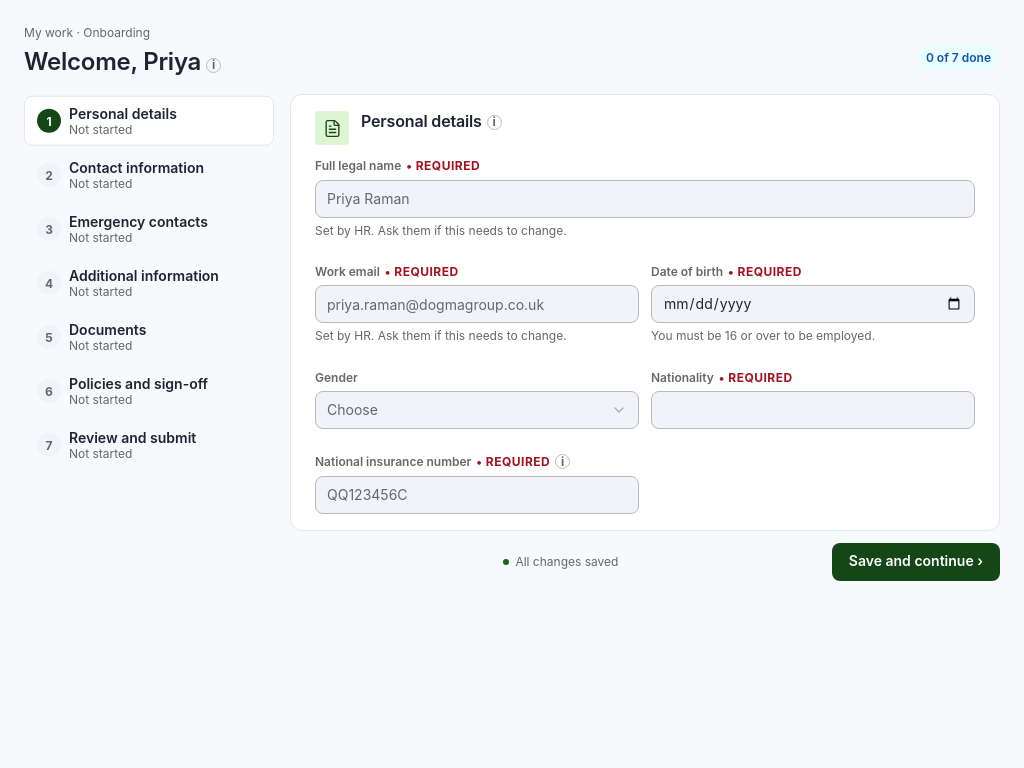
Test: My onboarding › the additional step keeps the prototype's statutory notes
The image size is (1024, 768).
Click the button "4 Additional information Not started".
click(149, 283)  # box [24, 258, 274, 308]
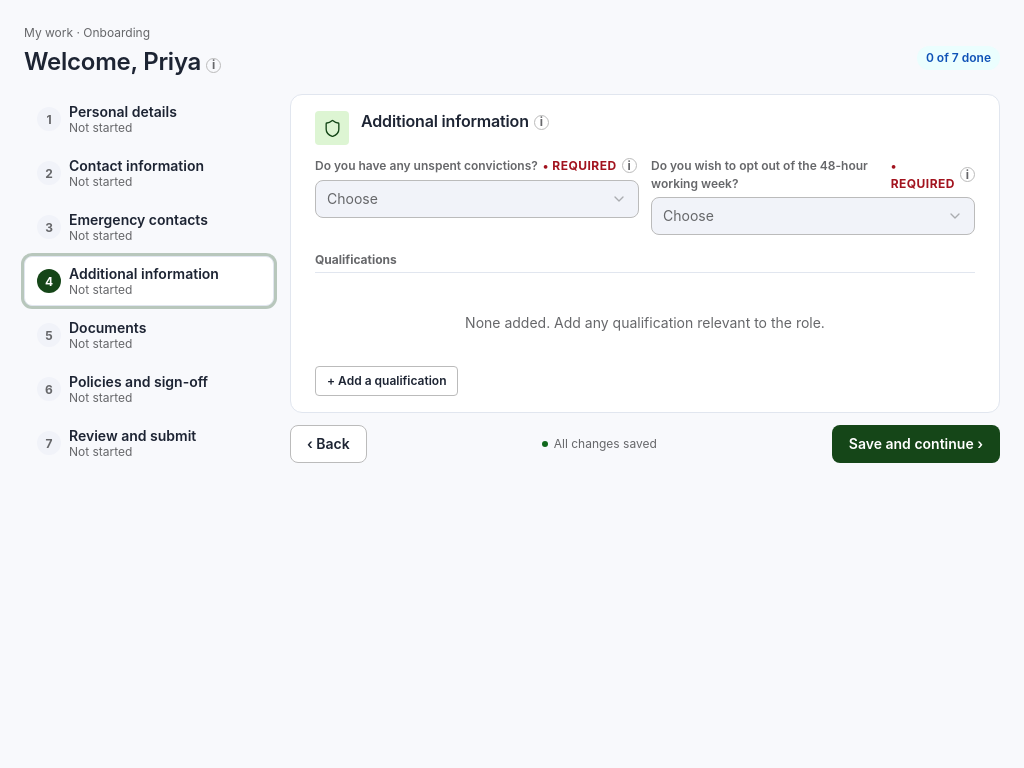
Now the text with test id "onb-no-quals" shows "None added.", box [465, 314, 825, 332]
